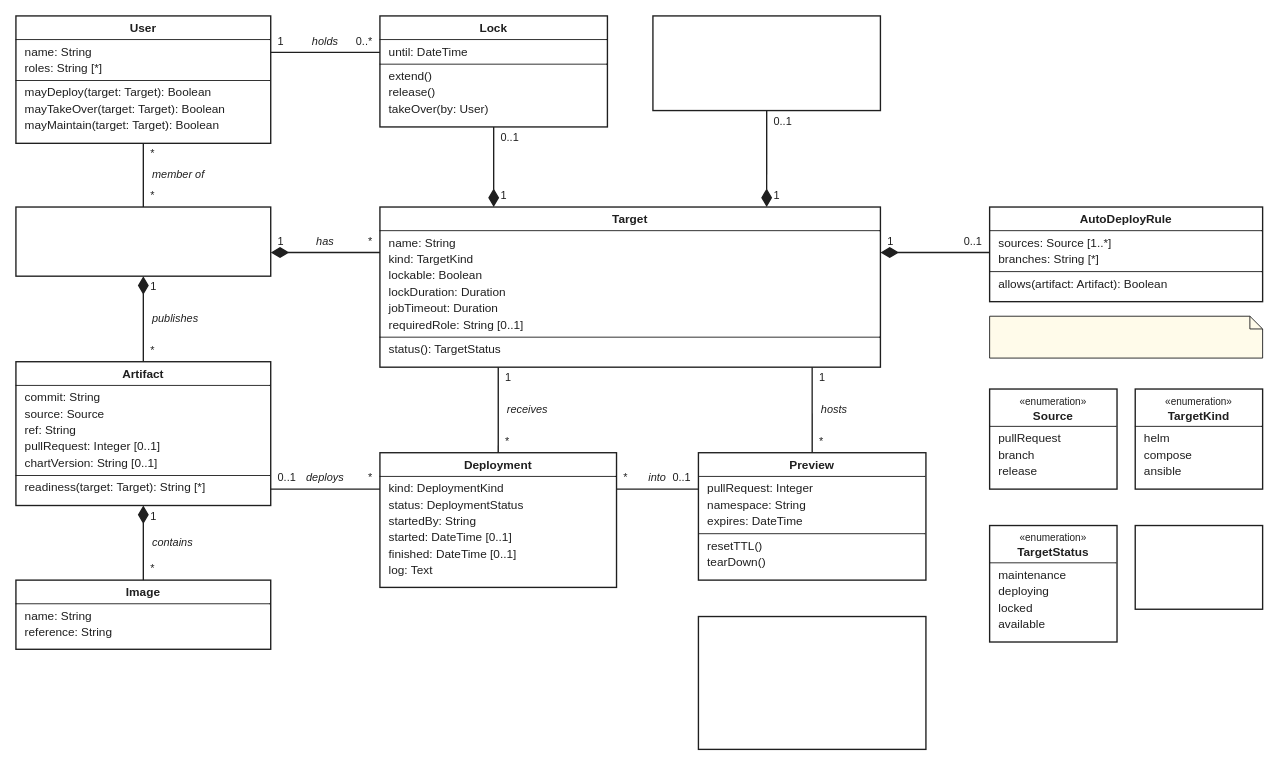
This 1279x766 diagram has some shape labels left out. The shapes that lost their labels are listed below. From the top down, each one's centre as x and y in pixels, then its label:
At point 766,63: "Maintenance reason: String since: DateTime end()".
At point 143,241: "Project name: String allowedRegistries: String [1..*]".
At point 1126,336: "Previews exist only on targets of kind helm marked as preview targets.".
At point 1198,567: "«enumeration» DeploymentKind deploy teardown".
At point 811,682: "«enumeration» DeploymentStatus pending running succeeded failed timedOut".
